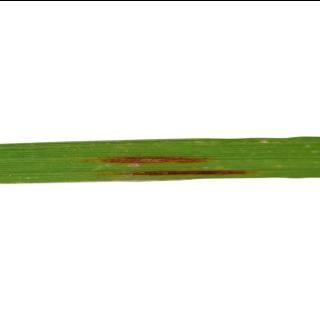Bercak-Cokelat-Sempit: (88, 168, 264, 180), (79, 153, 216, 166)
